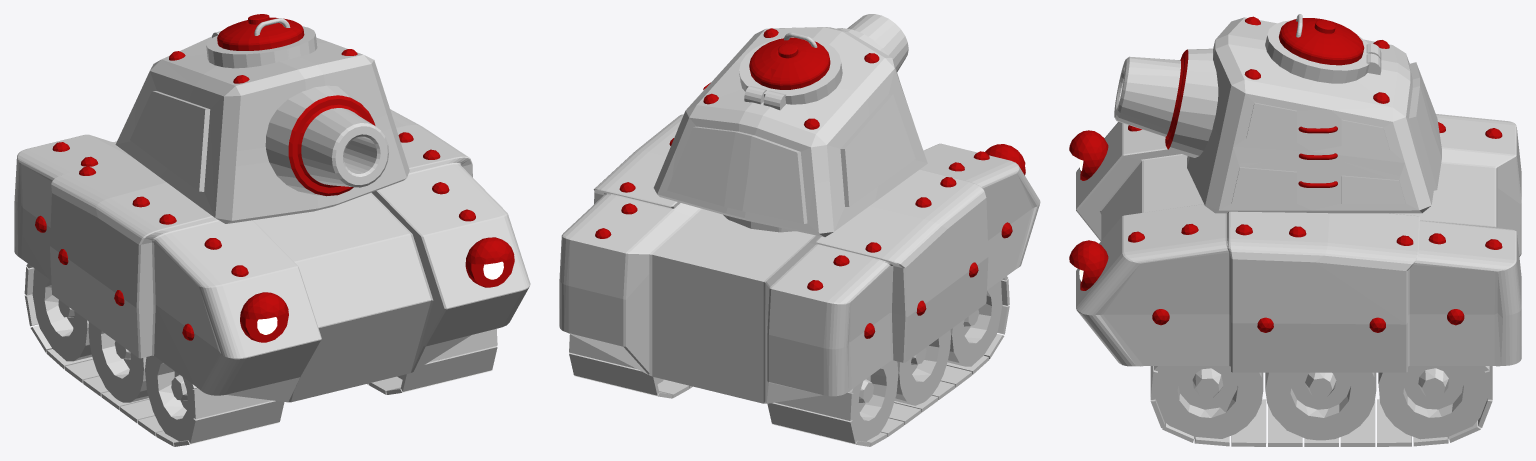
File: tank_white.gltf
The picture shows the model from 3 angles, left to right: view 1: azimuth 30°, elevation 25°; view 2: azimuth 150°, elevation 25°; view 3: azimuth 270°, elevation 25°; orthographic projection. The views are drawn at different scales.
Parts seen in each view (by area): view 1: Tank_White, Turret.014, Canon.014, Tracks.018, Wheels.024, Entrance.014, Lights.008, Bolts.007; view 2: Tank_White, Turret.014, Tracks.018, Wheels.024, Entrance.014, Bolts.007, Canon.014, Lights.008, Bolts.008; view 3: Tank_White, Turret.014, Wheels.024, Canon.014, Entrance.014, Tracks.018, Lights.008, Bolts.007, Ladder.012, Bolts.008.
Boxes of the visible parts, x1,y1,x2,y2 form: Tank_White: (14, 109, 530, 402); Turret.014: (115, 36, 409, 223); Canon.014: (265, 85, 388, 196); Tracks.018: (24, 264, 497, 446); Wheels.024: (32, 269, 403, 441); Entrance.014: (206, 14, 317, 68); Lights.008: (240, 237, 514, 342); Bolts.007: (35, 132, 475, 340); Tank_White: (559, 114, 1040, 403); Turret.014: (653, 27, 927, 237); Tracks.018: (569, 276, 1009, 446); Wheels.024: (656, 280, 1002, 441); Entrance.014: (739, 32, 842, 110); Bolts.007: (595, 138, 1012, 338); Canon.014: (837, 14, 908, 71); Lights.008: (985, 144, 1025, 175); Bolts.008: (703, 28, 879, 129); Tank_White: (1076, 114, 1521, 372); Turret.014: (1187, 17, 1441, 213); Wheels.024: (1155, 366, 1487, 440); Canon.014: (1114, 48, 1218, 157); Entrance.014: (1265, 14, 1381, 83); Tracks.018: (1150, 366, 1492, 446); Lights.008: (1069, 130, 1108, 290); Bolts.007: (1128, 122, 1502, 332); Ladder.012: (1298, 126, 1337, 187); Bolts.008: (1244, 16, 1389, 103).
Bounding box in the file's own units: 1.55 × 1.51 × 1.75.
